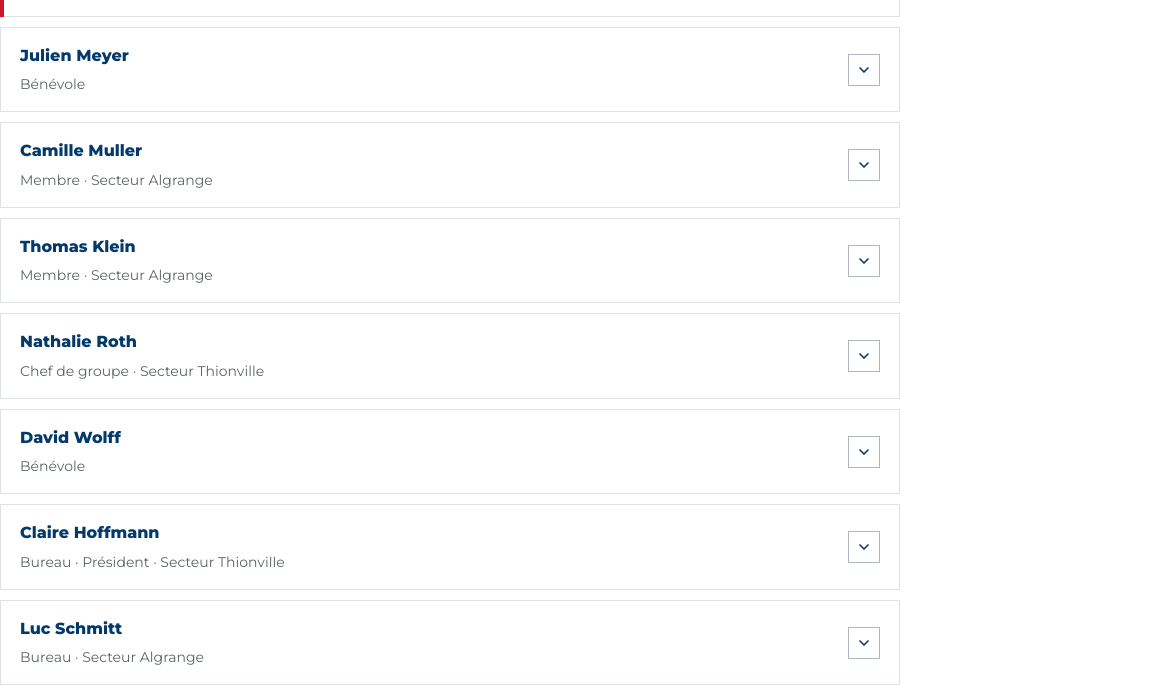
Test: MembersAdminPage › lets an Admin hand the Président flag to another Bureau member
(page scrolled)
Click the button "Luc Schmitt Bureau · Secteur Algrange": (71, 628) [20,616,832,669]
(page scrolled)
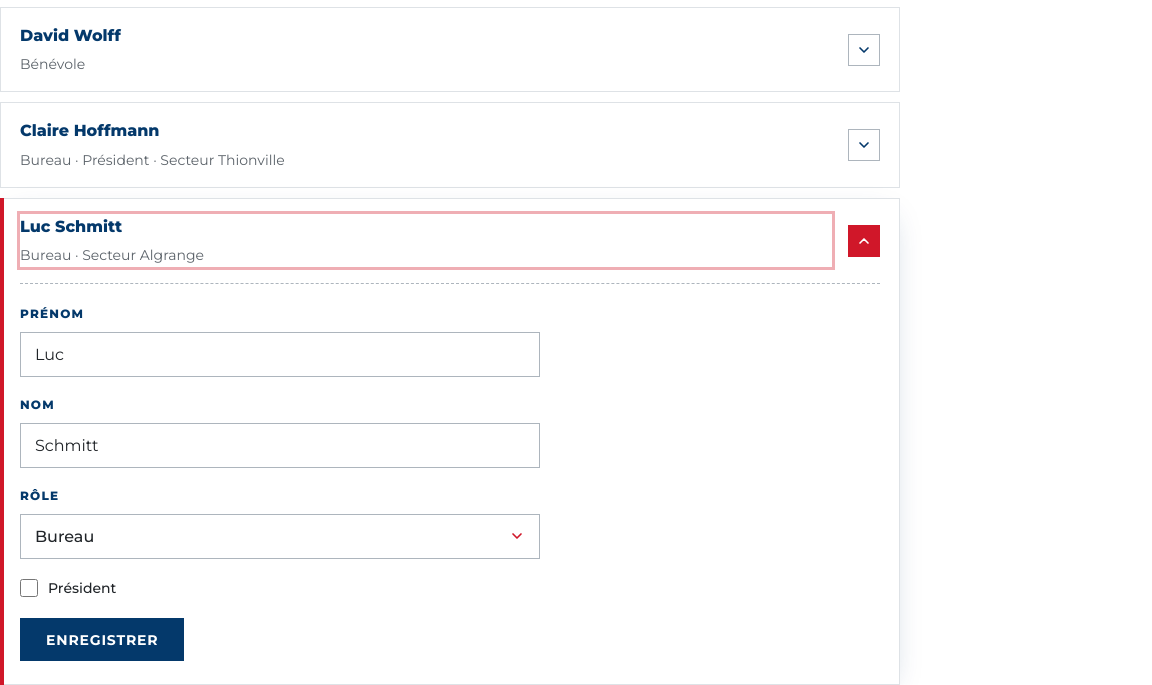
Click the checkbox labelled "Président": (29, 588) [20,579,38,597]
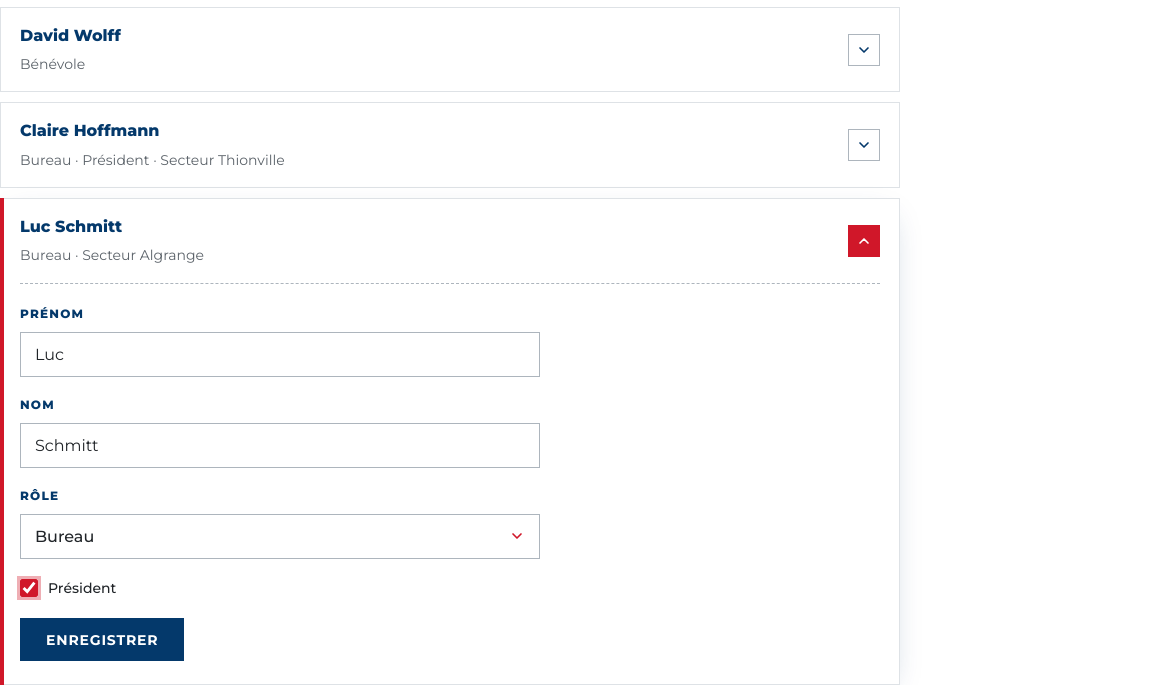
Click the button "Enregistrer": (102, 640) [20,618,184,661]
(page scrolled)
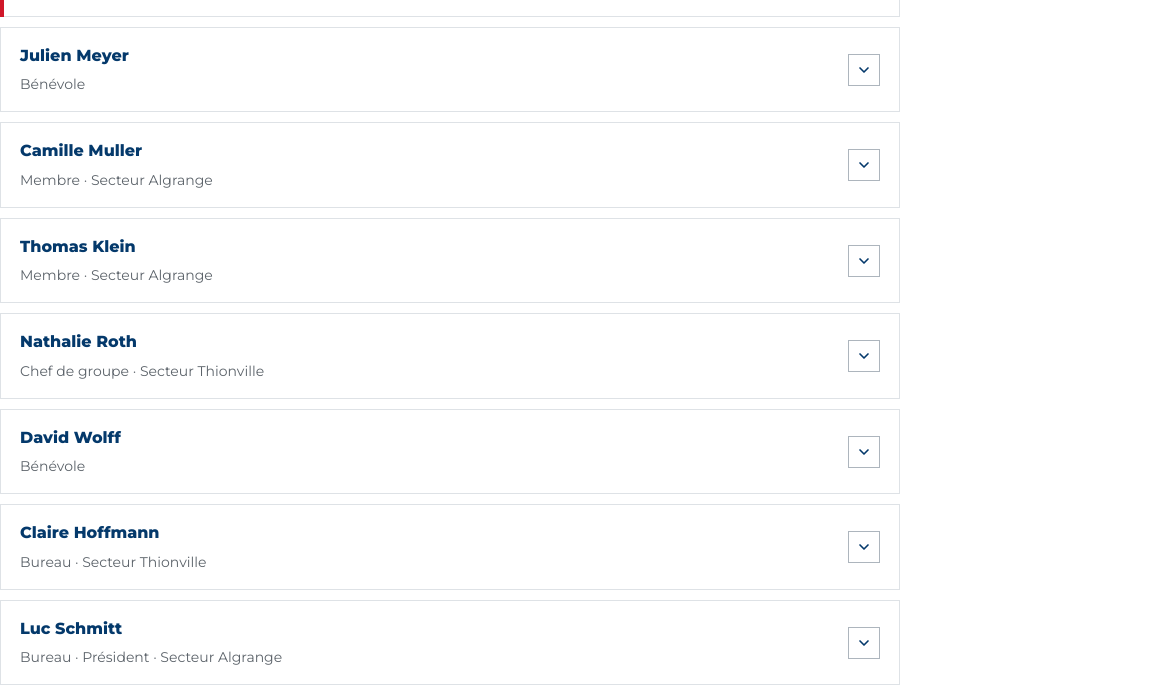
Expected: the button "Claire Hoffmann Bureau · Secteur Thionville" does not show "Président", [20,520,832,574]
Expected: the button "Luc Schmitt Bureau · Président · Secteur Algrange" is shown, [20,616,832,669]
